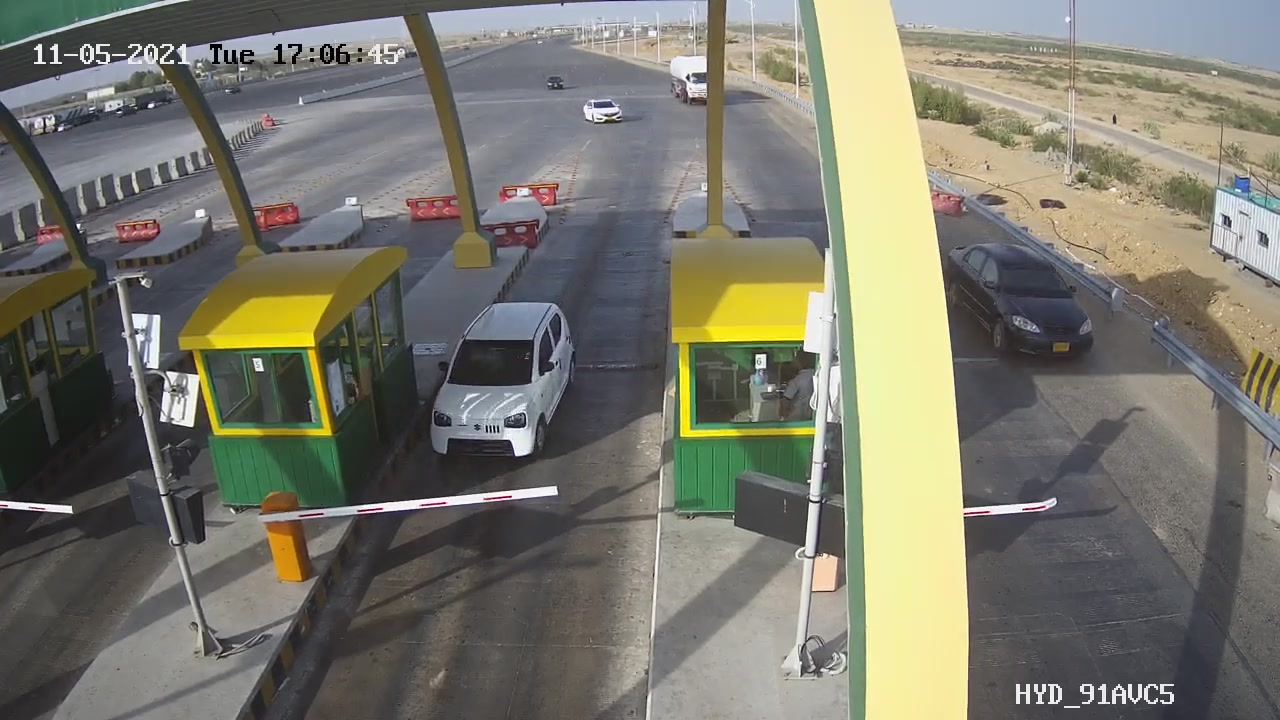F1: (408, 285, 595, 477)
